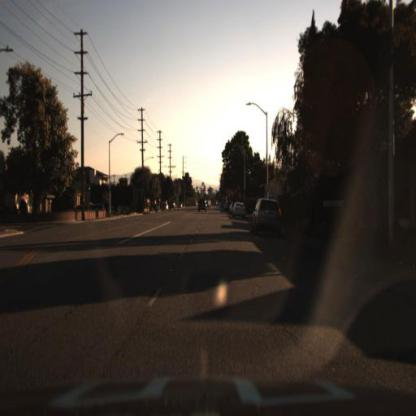car: (252, 198, 286, 243), (233, 200, 248, 220), (194, 196, 209, 215)
